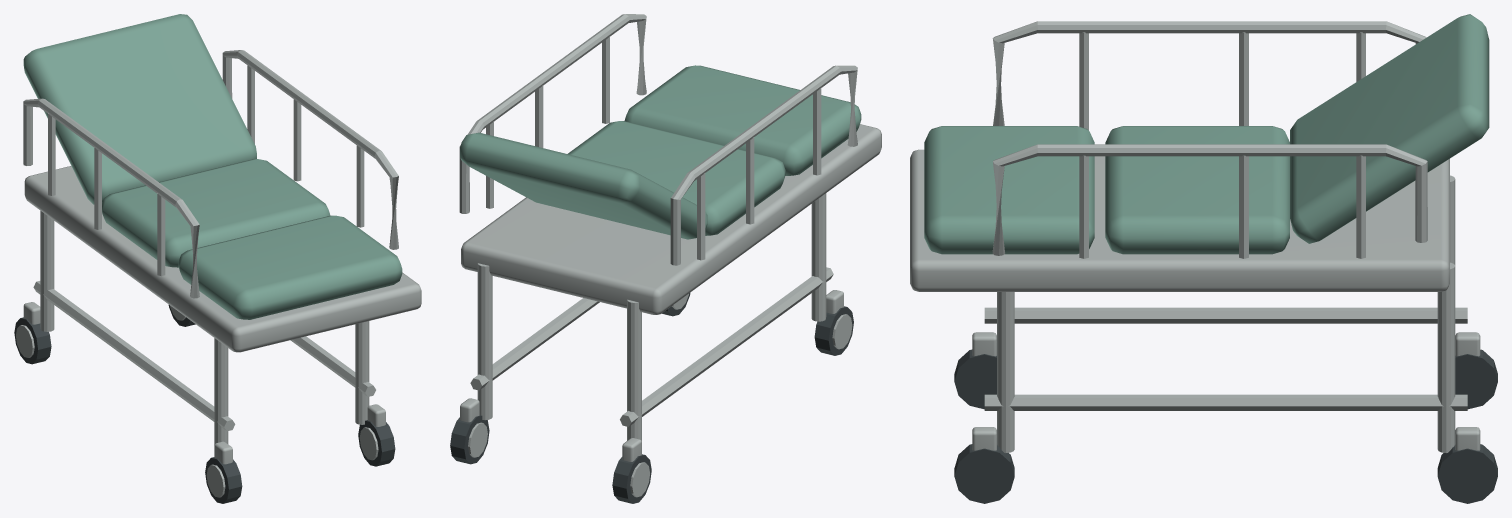
The model's file is procedure_stretcher_starter.glb.
3 views of the same model, side by side, from view 1: azimuth 30°, elevation 25°; view 2: azimuth 150°, elevation 25°; view 3: azimuth 270°, elevation 25° (orthographic). The views are drawn at different scales.
Visible parts, largest first — view 1: STATIC_procedure_stretcher_starter, MOVING_PIVOT_backrest_hinge, MOVING_PIVOT_side_rail_left, MOVING_PIVOT_side_rail_right; view 2: STATIC_procedure_stretcher_starter, MOVING_PIVOT_backrest_hinge, MOVING_PIVOT_side_rail_left, MOVING_PIVOT_side_rail_right; view 3: STATIC_procedure_stretcher_starter, MOVING_PIVOT_backrest_hinge, MOVING_PIVOT_side_rail_right, MOVING_PIVOT_side_rail_left.
Boxes of the visible parts, x1,y1,x2,y2 form: STATIC_procedure_stretcher_starter: [14, 159, 421, 503]; MOVING_PIVOT_backrest_hinge: [23, 14, 256, 204]; MOVING_PIVOT_side_rail_left: [23, 98, 199, 298]; MOVING_PIVOT_side_rail_right: [222, 50, 398, 249]; STATIC_procedure_stretcher_starter: [450, 65, 881, 503]; MOVING_PIVOT_backrest_hinge: [460, 132, 707, 239]; MOVING_PIVOT_side_rail_left: [670, 65, 857, 265]; MOVING_PIVOT_side_rail_right: [459, 14, 646, 213]; STATIC_procedure_stretcher_starter: [910, 126, 1497, 503]; MOVING_PIVOT_backrest_hinge: [1290, 14, 1489, 243]; MOVING_PIVOT_side_rail_right: [992, 144, 1427, 258]; MOVING_PIVOT_side_rail_left: [992, 21, 1426, 130].
Size of the model in its own units: 0.856 by 1.22 by 1.66.
